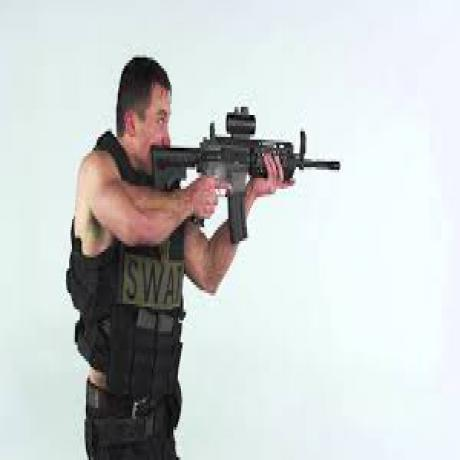Guns: (156, 100, 346, 234)
